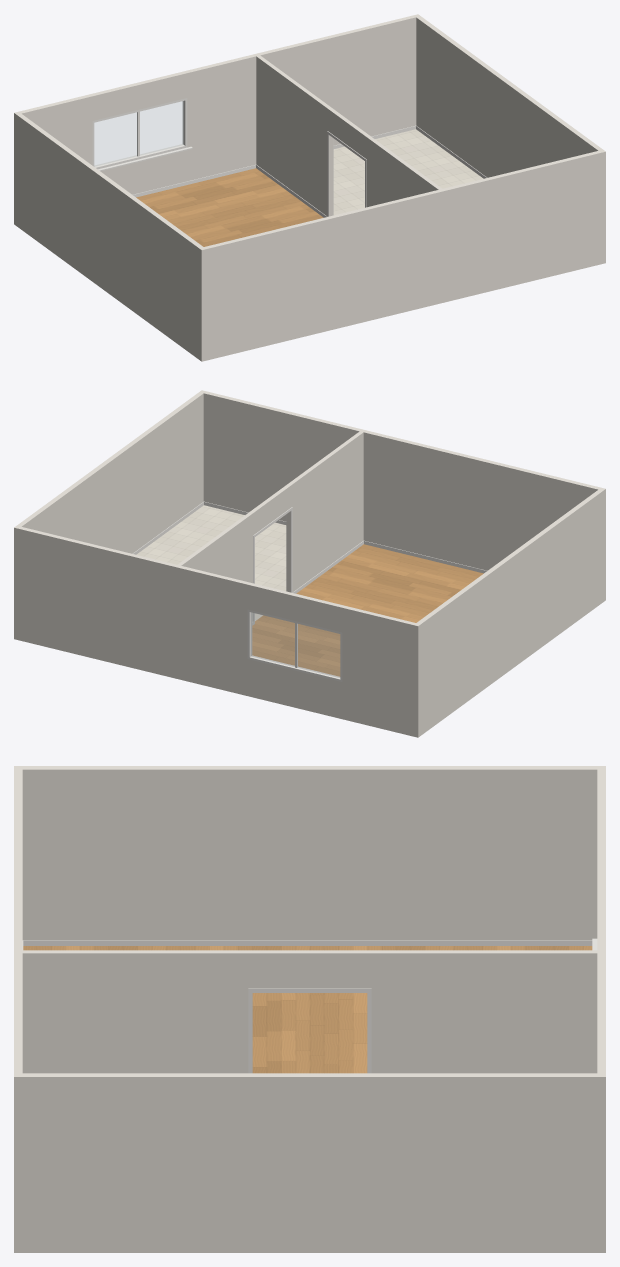
Rendered from room_shell.glb.
3 renders of one model, top to bottom at view 1: azimuth 30°, elevation 25°; view 2: azimuth 150°, elevation 25°; view 3: azimuth 270°, elevation 25°, orthographic. The views are drawn at different scales.
Parts seen in each view (by area): view 1: Walls, Floor_Living, Floor_Kitchen, Window_Glass, Window_Frame, Baseboards, Door_Casing; view 2: Walls, Floor_Living, Floor_Kitchen, Window_Glass, Baseboards, Window_Frame, Door_Casing; view 3: Walls, Floor_Living, Baseboards, Door_Casing.
Boxes of the visible parts, <box> form: Walls: <box>14,14,605,361</box>; Floor_Living: <box>136,168,323,246</box>; Floor_Kitchen: <box>333,129,483,215</box>; Window_Glass: <box>94,101,183,166</box>; Window_Frame: <box>92,98,192,171</box>; Baseboards: <box>132,125,487,217</box>; Door_Casing: <box>327,131,366,216</box>; Walls: <box>14,390,605,737</box>; Floor_Living: <box>252,544,483,676</box>; Floor_Kitchen: <box>136,505,286,620</box>; Window_Glass: <box>251,612,339,677</box>; Baseboards: <box>132,501,487,625</box>; Window_Frame: <box>247,609,342,681</box>; Door_Casing: <box>253,507,292,624</box>; Walls: <box>14,766,605,1252</box>; Floor_Living: <box>23,946,592,1073</box>; Baseboards: <box>22,940,592,949</box>; Door_Casing: <box>248,988,371,1073</box>.
Size of what is drawn, in the model's own units: 10.24 by 2.72 by 8.24.
Materials: 5 (2 with a texture image).
